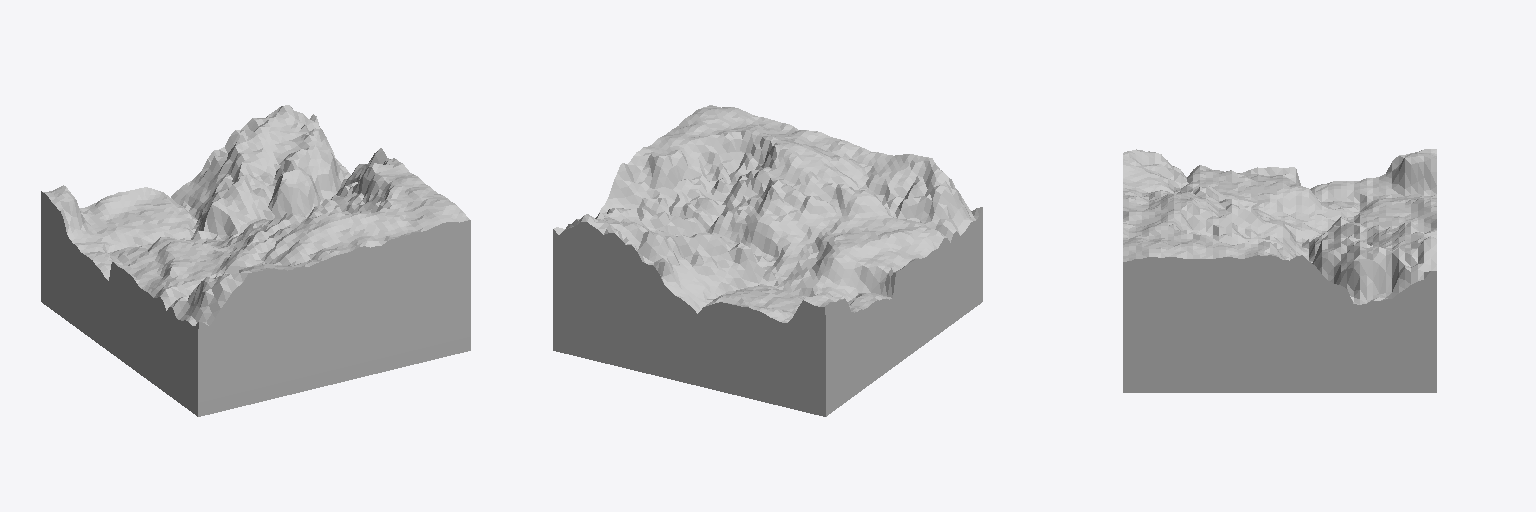
The model's file is block_1_1.obj.
3 views of the same model, side by side, from view 1: azimuth 30°, elevation 25°; view 2: azimuth 150°, elevation 25°; view 3: azimuth 270°, elevation 25° (orthographic).
Parts seen in each view (by area): view 1: Mesh_5; view 2: Mesh_5; view 3: Mesh_5.
Boxes of the visible parts, x1=… form: Mesh_5: x1=41, y1=105, x2=470, y2=416; Mesh_5: x1=553, y1=105, x2=982, y2=416; Mesh_5: x1=1123, y1=149, x2=1436, y2=392.
Size of the model in its own units: 0.1 by 0.0494 by 0.1.